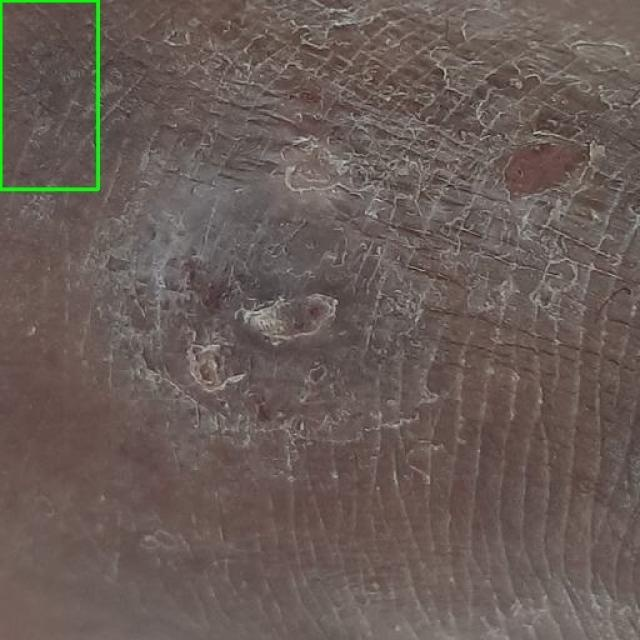Eczema: (0, 0, 98, 189)
